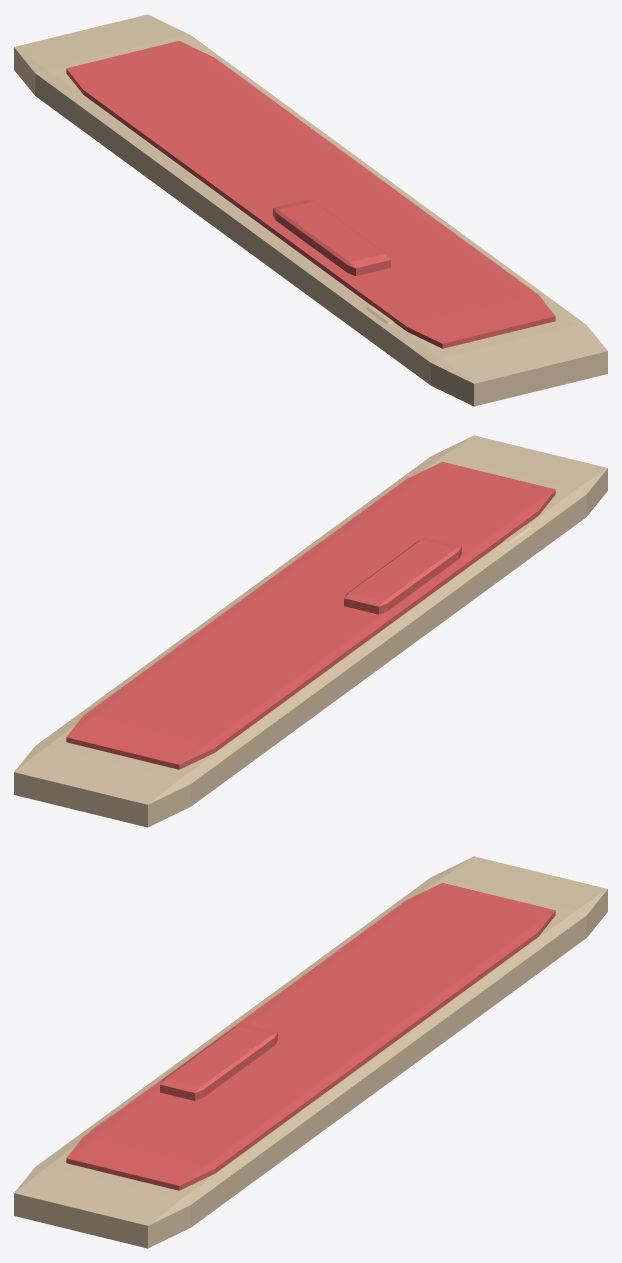
The model's file is b16_disposable_plastic_fork.glb.
3 renders of one model, top to bottom at view 1: azimuth 30°, elevation 25°; view 2: azimuth 150°, elevation 25°; view 3: azimuth 330°, elevation 25°, orthographic.
Parts seen in each view (by area): view 1: b16_disposable_plastic_fork; view 2: b16_disposable_plastic_fork; view 3: b16_disposable_plastic_fork.
Part boxes in pixels (x1=…): b16_disposable_plastic_fork: x1=14, y1=14, x2=607, y2=406; b16_disposable_plastic_fork: x1=14, y1=435, x2=607, y2=827; b16_disposable_plastic_fork: x1=14, y1=856, x2=607, y2=1248.
Size of the model in its own units: 0.034 by 0.01 by 0.174.
